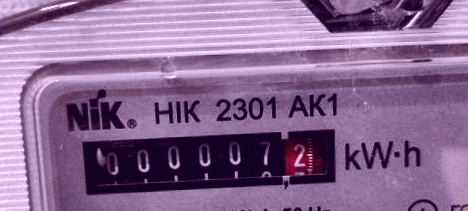0: (134, 145, 152, 174), (164, 143, 183, 170), (103, 148, 121, 176), (226, 138, 242, 166), (196, 140, 211, 167)
2: (291, 140, 308, 169)
7: (256, 138, 272, 167)
screen: (73, 119, 348, 200)
